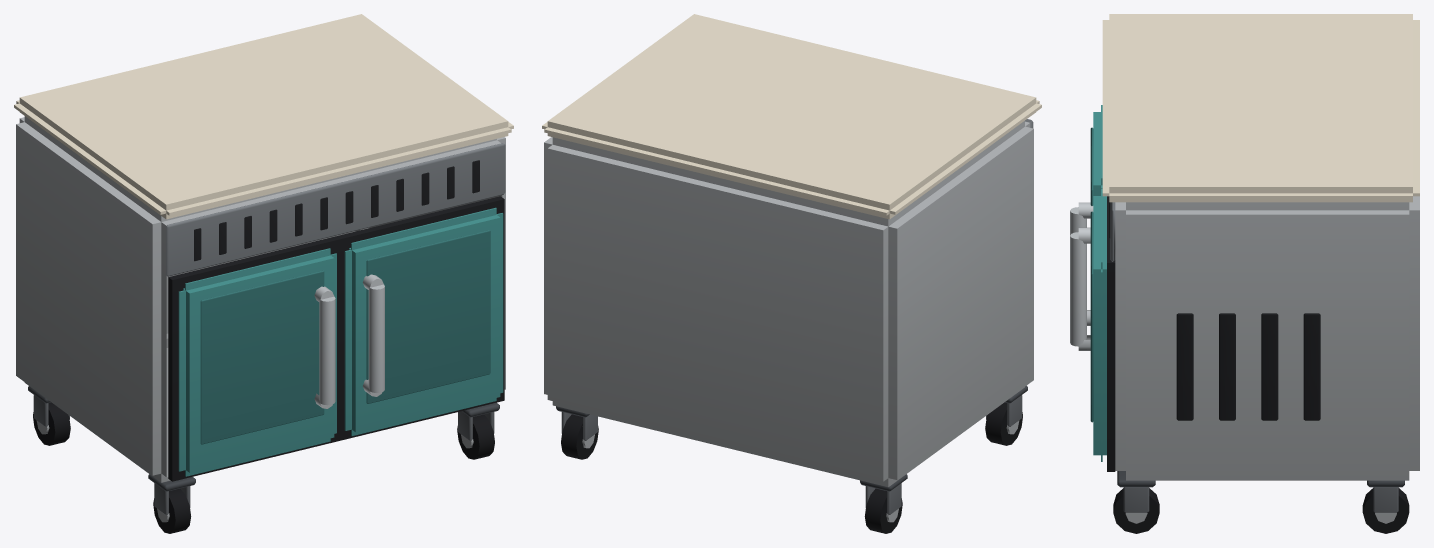
The model's file is SM_Undercounter_Fridge_10.glb.
3 renders of one model, left to right at view 1: azimuth 30°, elevation 25°; view 2: azimuth 150°, elevation 25°; view 3: azimuth 270°, elevation 25°, orthographic. The views are drawn at different scales.
Visible parts, largest first — view 1: SM_Undercounter_Fridge_10; view 2: SM_Undercounter_Fridge_10; view 3: SM_Undercounter_Fridge_10.
Boxes of the visible parts, <box> form: SM_Undercounter_Fridge_10: <box>14,14,513,533</box>; SM_Undercounter_Fridge_10: <box>542,14,1041,533</box>; SM_Undercounter_Fridge_10: <box>1070,14,1419,533</box>.
Size of the model in its own units: 1.01 by 0.92 by 0.827.
1 material, 1 textured.
